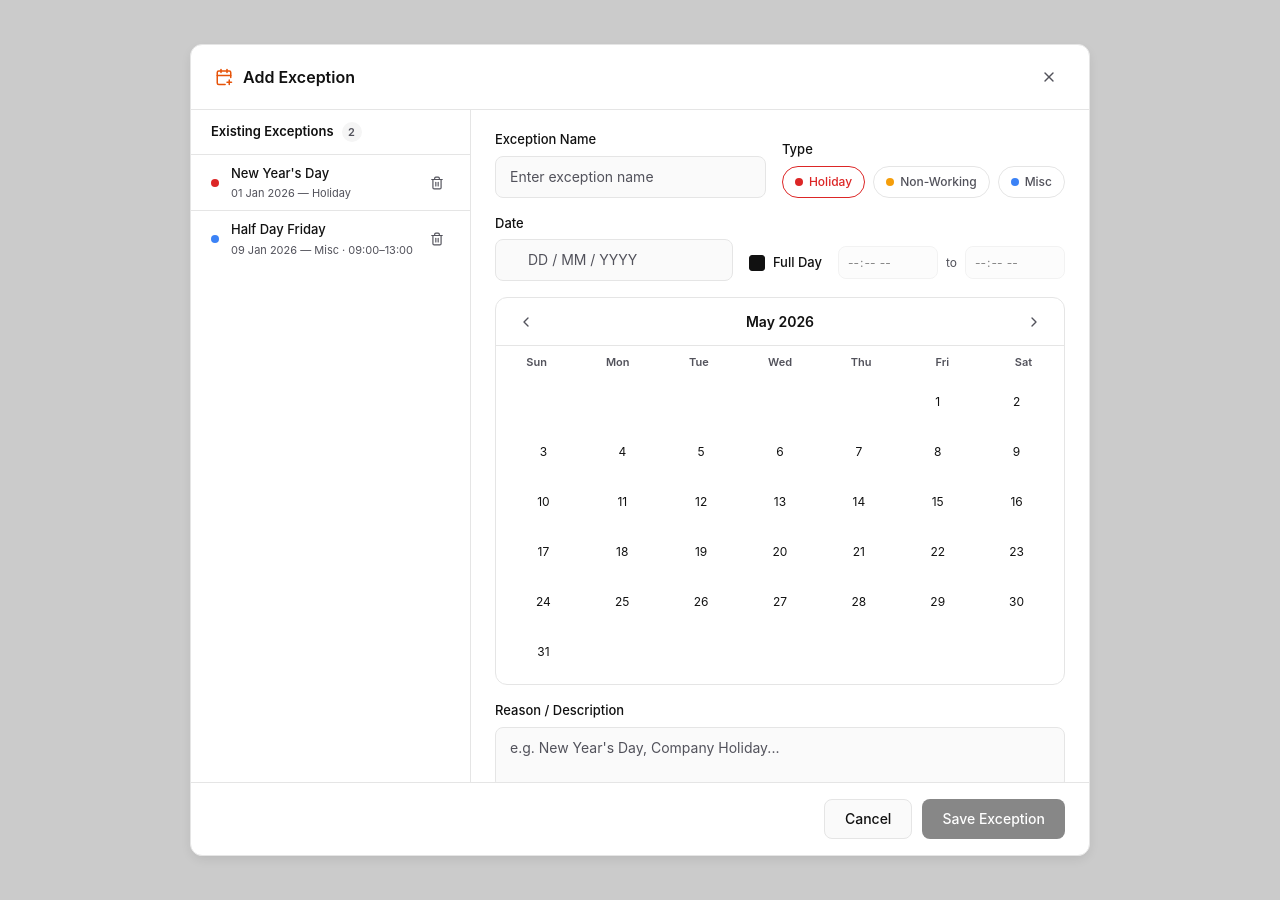
Test case: CalendarExceptionModal › re-checking Full Day clears time inputs and disables them
What coordinates should you click on to do the following:
click the text "Full Day"
I would click on:
 (797, 263)
Its box is left=773, top=253, right=822, bottom=272.
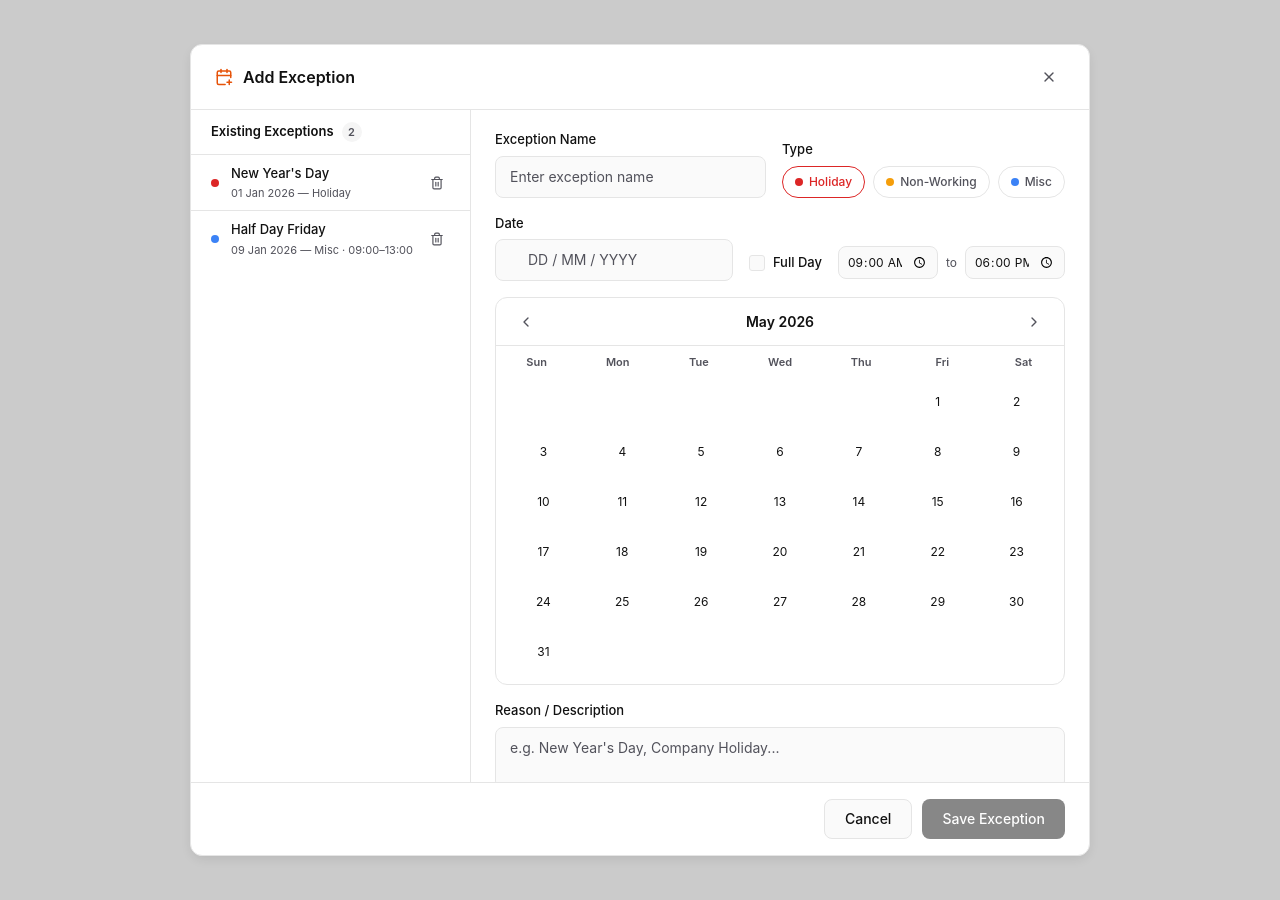
What coordinates should you click on to do the following:
click the text "Full Day"
I would click on:
 (797, 263)
Its box is left=773, top=253, right=822, bottom=272.
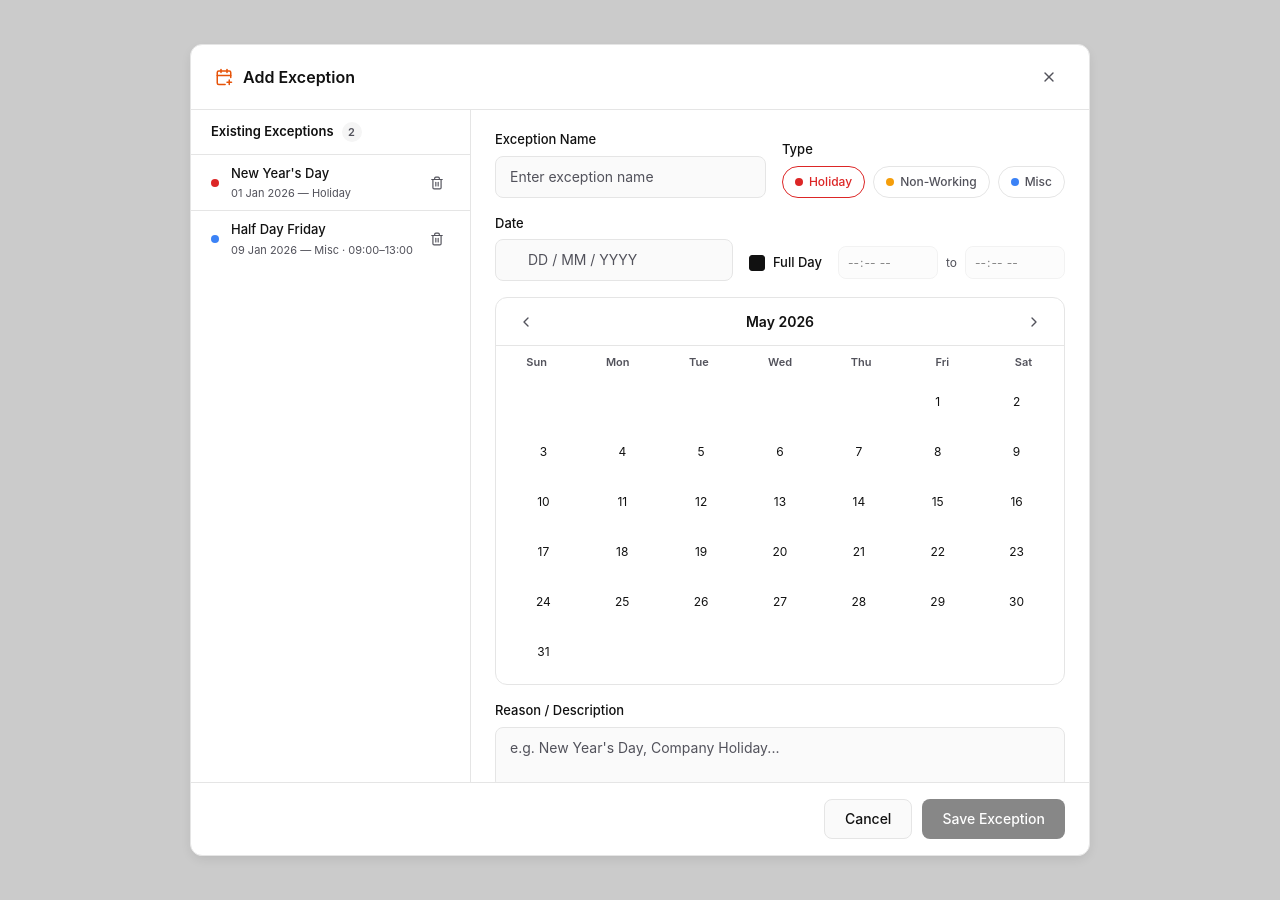
Expected: the 1st time field is disabled, left=838, top=246, right=938, bottom=279
Expected: the 1st time field is empty, left=838, top=246, right=938, bottom=279
